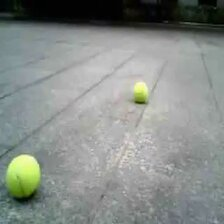tennis: (5, 154, 39, 197), (133, 80, 148, 101)
